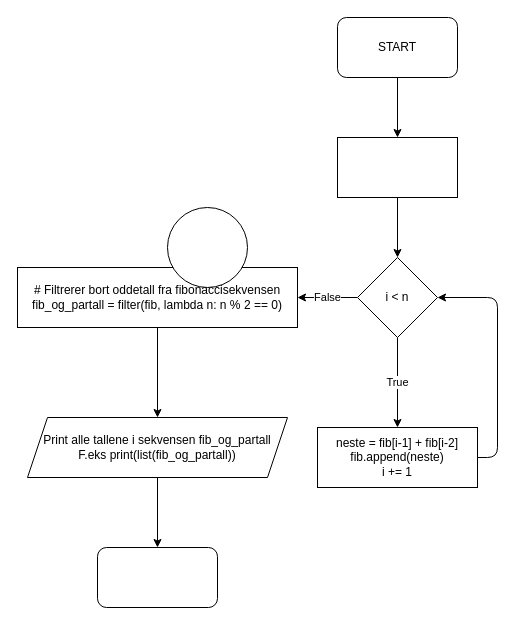
This 523x625 diagram has some shape labels left out. The shapes that lost their labels are listed below. From the top down, each one's centre as x and y in pixels, then its label:
the point at 397,167: n = 10 fib = [0, 1] i = 2
the point at 157,577: SLUTT
